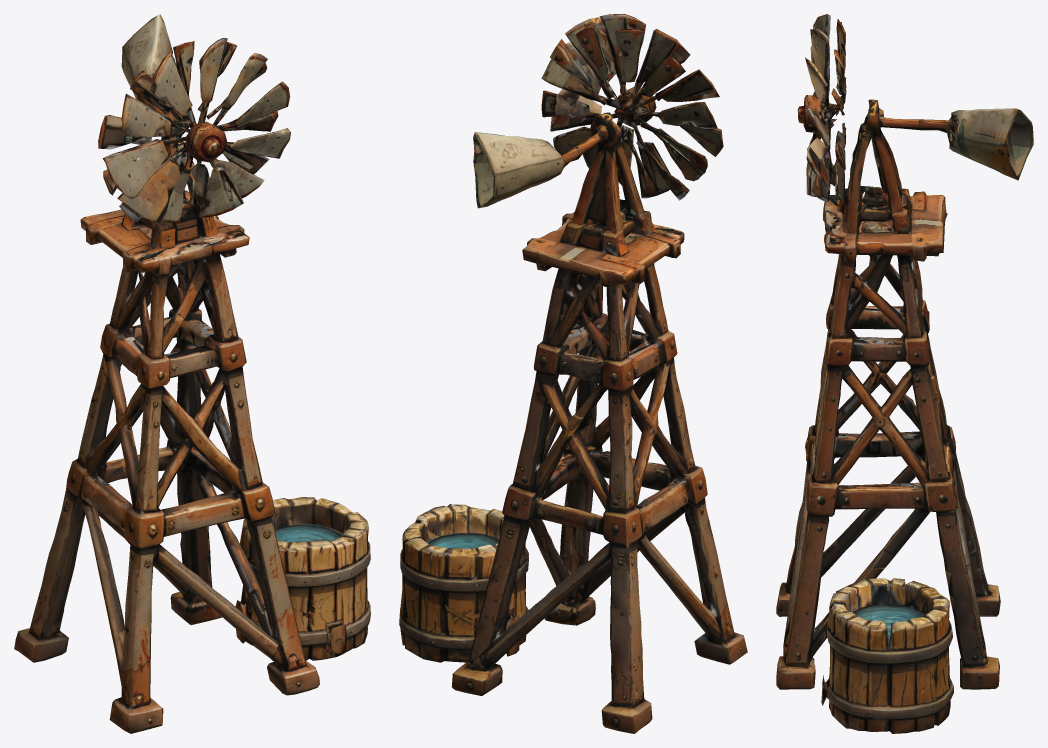
File: Settle_Windmill_Small.fbx
3 renders of one model, left to right at view 1: azimuth 30°, elevation 25°; view 2: azimuth 150°, elevation 25°; view 3: azimuth 270°, elevation 25°, orthographic. The views are drawn at different scales.
Visible parts, largest first — view 1: texture_mapping; view 2: texture_mapping; view 3: texture_mapping.
Boxes of the visible parts, bbox=[...] form: texture_mapping: bbox=[14, 14, 370, 733]; texture_mapping: bbox=[399, 14, 747, 733]; texture_mapping: bbox=[776, 14, 1033, 733].
Bounding box in the file's own units: 0.4766 × 0.377 × 1.
1 material, 1 textured.
